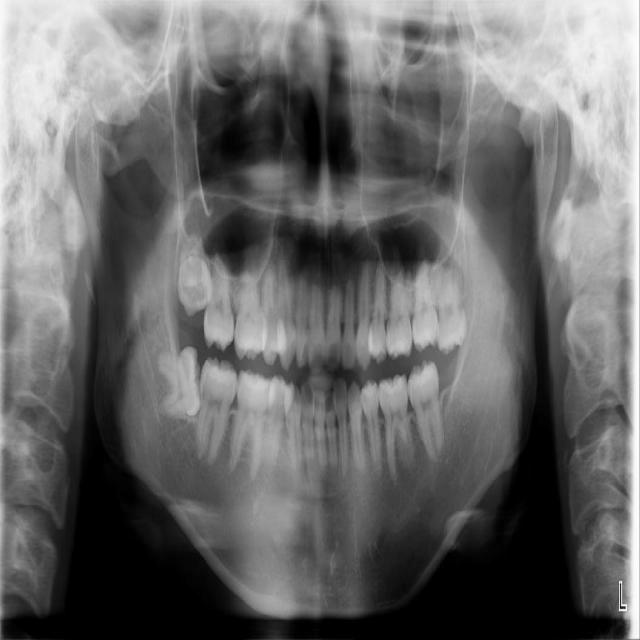impacted tooth: (147, 345, 200, 416), (178, 226, 212, 318)
